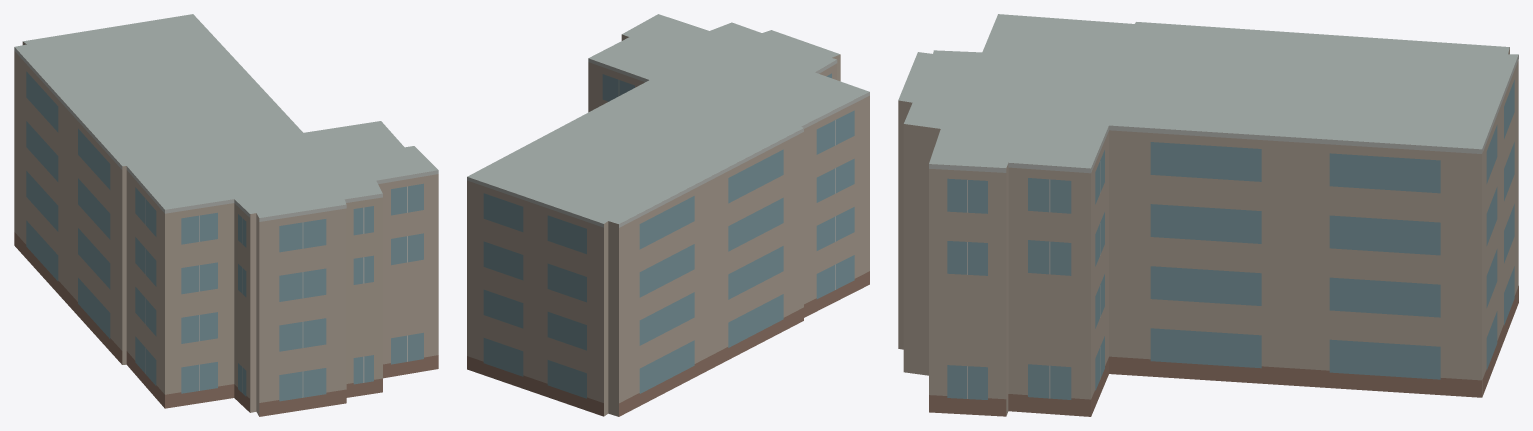
The model's file is survey-upis-32762972.glb.
3 views of the same model, side by side, from view 1: azimuth 30°, elevation 25°; view 2: azimuth 150°, elevation 25°; view 3: azimuth 270°, elevation 25° (orthographic). The views are drawn at different scales.
Parts seen in each view (by area): view 1: survey-upis-32762972.tmp; view 2: survey-upis-32762972.tmp; view 3: survey-upis-32762972.tmp.
Part boxes in pixels (left/top/right/bottom): survey-upis-32762972.tmp: left=14, top=14, right=438, bottom=416; survey-upis-32762972.tmp: left=467, top=14, right=869, bottom=416; survey-upis-32762972.tmp: left=898, top=14, right=1518, bottom=416.
Bounding box in the file's own units: 16.82 × 12.6 × 28.54.
